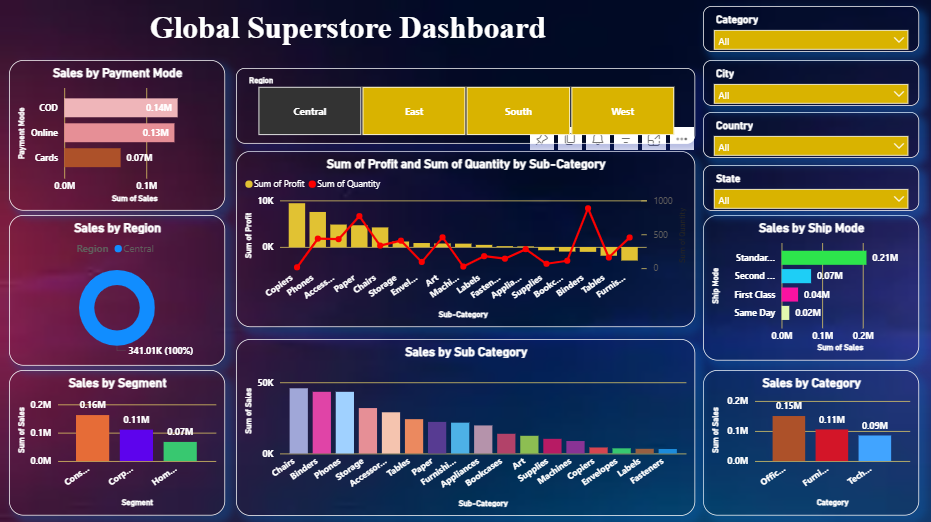

The page's visual inventory and layout, read from the dashboard file:
{"tool":"powerbi","page":{"name":"Global Superstore Dashboard","canvas":[1280,720],"ordinal":0},"visuals":[{"type":"barChart","title":"Sales by Payment Mode","fields":{"Y":["Sum(SuperStore_Sales_Dataset.Sales)"],"Category":["SuperStore_Sales_Dataset.Payment Mode"]},"box":[13,83.5,296.6,207.4],"z":0},{"type":"donutChart","title":"Sales by Region","fields":{"Y":["Sum(SuperStore_Sales_Dataset.Sales)"],"Category":["SuperStore_Sales_Dataset.Region"]},"box":[13,296.6,296.6,207.4],"z":1000},{"type":"columnChart","title":"Sales by Segment","fields":{"Category":["SuperStore_Sales_Dataset.Segment"],"Y":["Sum(SuperStore_Sales_Dataset.Sales)"]},"box":[13,509.8,296.6,200.2],"z":2000},{"type":"columnChart","title":"Sales by Category","fields":{"Category":["SuperStore_Sales_Dataset.Category"],"Y":["Sum(SuperStore_Sales_Dataset.Sales)"]},"box":[966.2,509.8,296.6,200.2],"z":3000},{"type":"columnChart","title":"Sales by Sub Category","fields":{"Y":["Sum(SuperStore_Sales_Dataset.Sales)"],"Category":["SuperStore_Sales_Dataset.Sub-Category"]},"box":[324,466.6,630.7,243.4],"z":4000},{"type":"barChart","title":"Sales by Ship Mode","fields":{"Y":["Sum(SuperStore_Sales_Dataset.Sales)"],"Category":["SuperStore_Sales_Dataset.Ship Mode"]},"box":[966.2,296.6,296.6,200.2],"z":5000},{"type":"lineStackedColumnComboChart","fields":{"Category":["SuperStore_Sales_Dataset.Sub-Category"],"Y":["Sum(SuperStore_Sales_Dataset.Profit)"],"Y2":["Sum(SuperStore_Sales_Dataset.Quantity)"]},"box":[324,208.8,630.7,241.9],"z":6000},{"type":"slicer","fields":{"Values":["SuperStore_Sales_Dataset.State"]},"box":[966.2,227.5,296.6,63.4],"z":7000},{"type":"slicer","fields":{"Values":["SuperStore_Sales_Dataset.Country"]},"box":[966.2,155.5,296.6,63.4],"z":8000},{"type":"slicer","fields":{"Values":["SuperStore_Sales_Dataset.City"]},"box":[966.2,83.5,296.6,63.4],"z":9000},{"type":"slicer","fields":{"Values":["SuperStore_Sales_Dataset.Category"]},"box":[966.2,10.1,296.6,63.4],"z":10000},{"type":"slicer","fields":{"Values":["SuperStore_Sales_Dataset.Region"]},"box":[324,95,630.7,103.7],"z":11000},{"type":"textbox","box":[13,10.1,941.8,63.4],"z":12000}]}

Visuals, with their boxes in screenshot pixels (x1, y1, x2, y2), scaled from the page's 1280x720 canvas onto the 931x522 screenshot:
"Sales by Payment Mode" barChart: pyautogui.locateOnScreen(9, 61, 225, 211)
"Sales by Region" donutChart: pyautogui.locateOnScreen(9, 215, 225, 365)
"Sales by Segment" columnChart: pyautogui.locateOnScreen(9, 370, 225, 515)
"Sales by Category" columnChart: pyautogui.locateOnScreen(703, 370, 918, 515)
"Sales by Sub Category" columnChart: pyautogui.locateOnScreen(236, 338, 694, 515)
"Sales by Ship Mode" barChart: pyautogui.locateOnScreen(703, 215, 918, 360)
lineStackedColumnComboChart - SuperStore_Sales_Dataset.Sub-Category x Sum(SuperStore_Sales_Dataset.Profit): pyautogui.locateOnScreen(236, 151, 694, 327)
slicer - SuperStore_Sales_Dataset.State: pyautogui.locateOnScreen(703, 165, 918, 211)
slicer - SuperStore_Sales_Dataset.Country: pyautogui.locateOnScreen(703, 113, 918, 159)
slicer - SuperStore_Sales_Dataset.City: pyautogui.locateOnScreen(703, 61, 918, 107)
slicer - SuperStore_Sales_Dataset.Category: pyautogui.locateOnScreen(703, 7, 918, 53)
slicer - SuperStore_Sales_Dataset.Region: pyautogui.locateOnScreen(236, 69, 694, 144)
textbox: pyautogui.locateOnScreen(9, 7, 694, 53)
